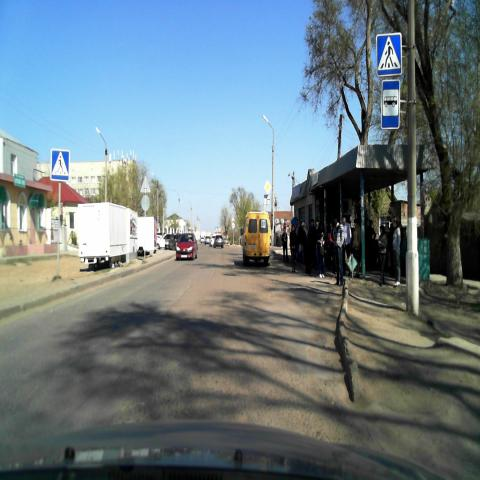5_16: (380, 82, 400, 130)
